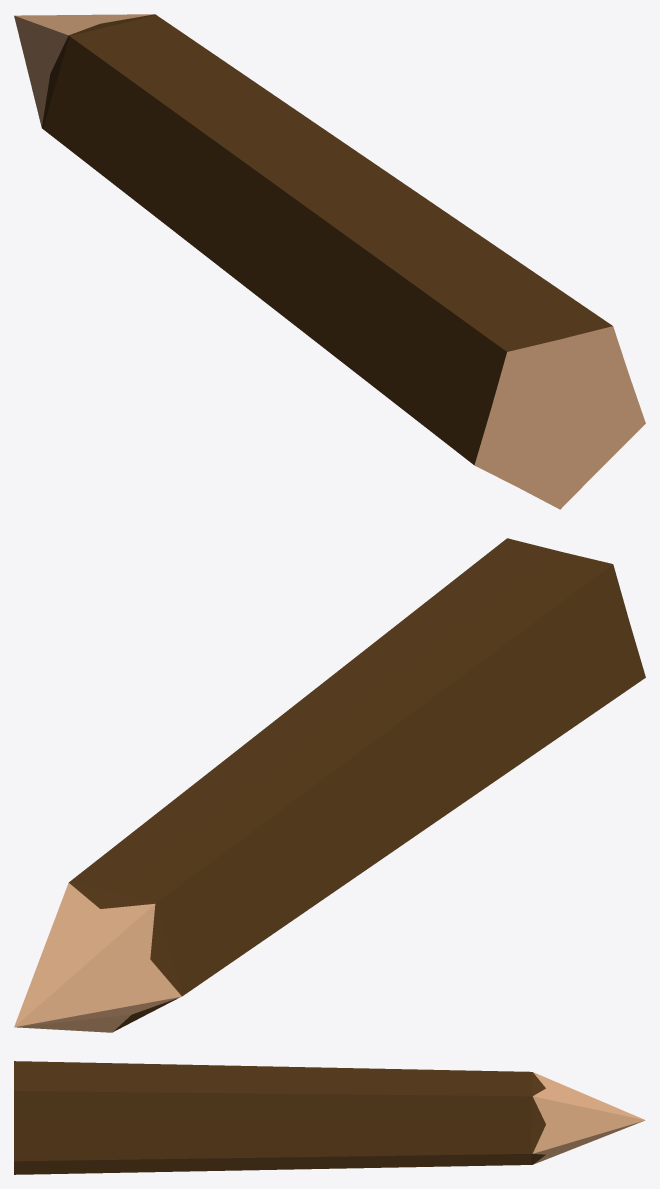
Rendered from Stake.fbx.
3 renders of one model, top to bottom at view 1: azimuth 30°, elevation 25°; view 2: azimuth 150°, elevation 25°; view 3: azimuth 270°, elevation 25°, orthographic. The views are drawn at different scales.
Parts seen in each view (by area): view 1: Cylinder; view 2: Cylinder; view 3: Cylinder.
Part boxes in pixels (left/top/right/bottom): Cylinder: left=14, top=14, right=645, bottom=509; Cylinder: left=14, top=538, right=645, bottom=1032; Cylinder: left=14, top=1061, right=645, bottom=1174.
Bounding box in the file's own units: 9.72 × 9.25 × 53.62.
